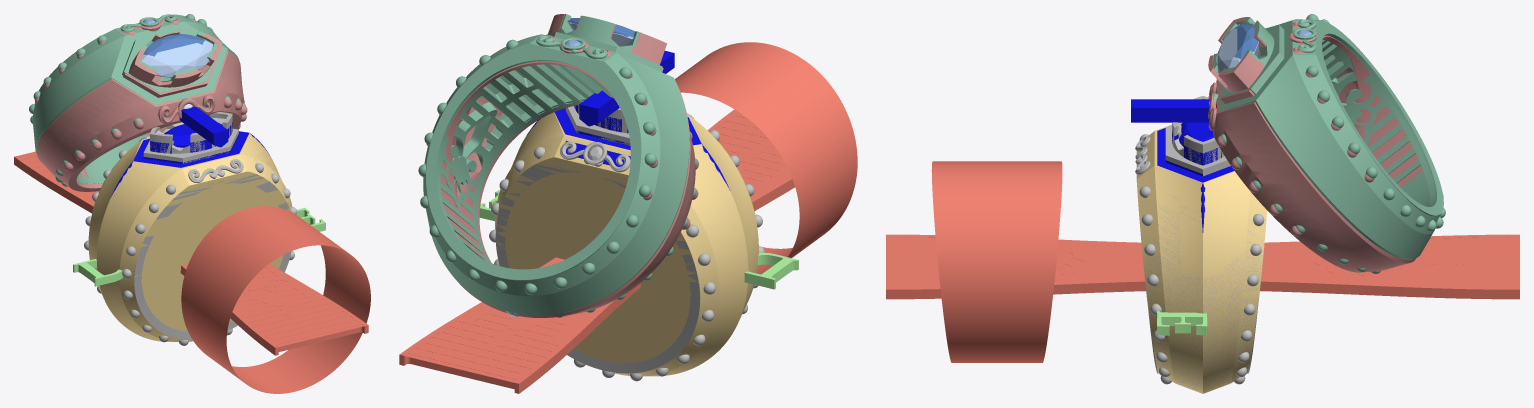
The picture shows the model from 3 angles, left to right: view 1: azimuth 30°, elevation 25°; view 2: azimuth 150°, elevation 25°; view 3: azimuth 270°, elevation 25°; orthographic projection. The views are drawn at different scales.
Visible parts, largest first — view 1: CUARTA EDICION.3dm, Rhinoceros Binary STL ( Jul 7 2025 ) (×4), Gem (×3); view 2: CUARTA EDICION.3dm, Rhinoceros Binary STL ( Jul 7 2025 ) (×2); view 3: CUARTA EDICION.3dm, Rhinoceros Binary STL ( Jul 7 2025 ) (×2), Gem (×3).
Boxes of the visible parts, box(x1,y1,x2,y2) form: CUARTA EDICION.3dm: box(14, 14, 370, 393); Rhinoceros Binary STL ( Jul 7 2025 ) (×4): box(36, 28, 244, 191); Gem (×3): box(141, 34, 222, 147); CUARTA EDICION.3dm: box(399, 14, 857, 393); Rhinoceros Binary STL ( Jul 7 2025 ) (×2): box(440, 14, 695, 317); CUARTA EDICION.3dm: box(886, 14, 1519, 393); Rhinoceros Binary STL ( Jul 7 2025 ) (×2): box(1208, 17, 1422, 272); Gem (×3): box(1179, 24, 1259, 146).
Size of the model in its own units: 2.58 by 3.09 by 5.
